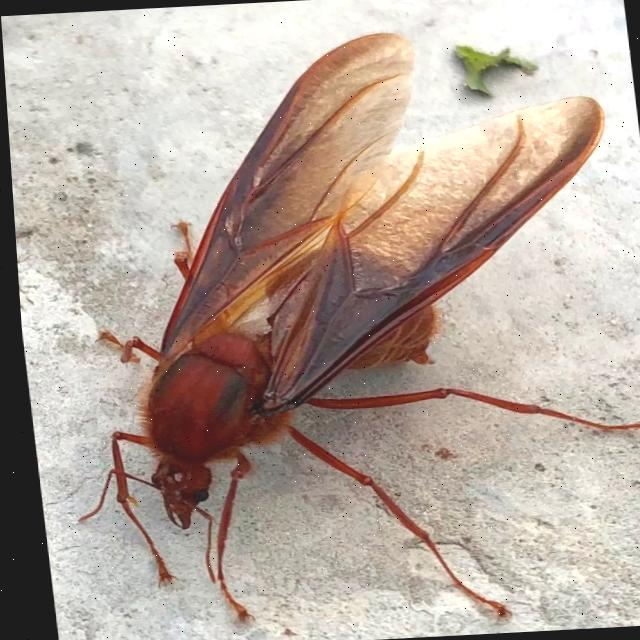Alive-Male-Alate: (16, 16, 640, 640)
